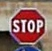stop: (7, 7, 47, 45)
